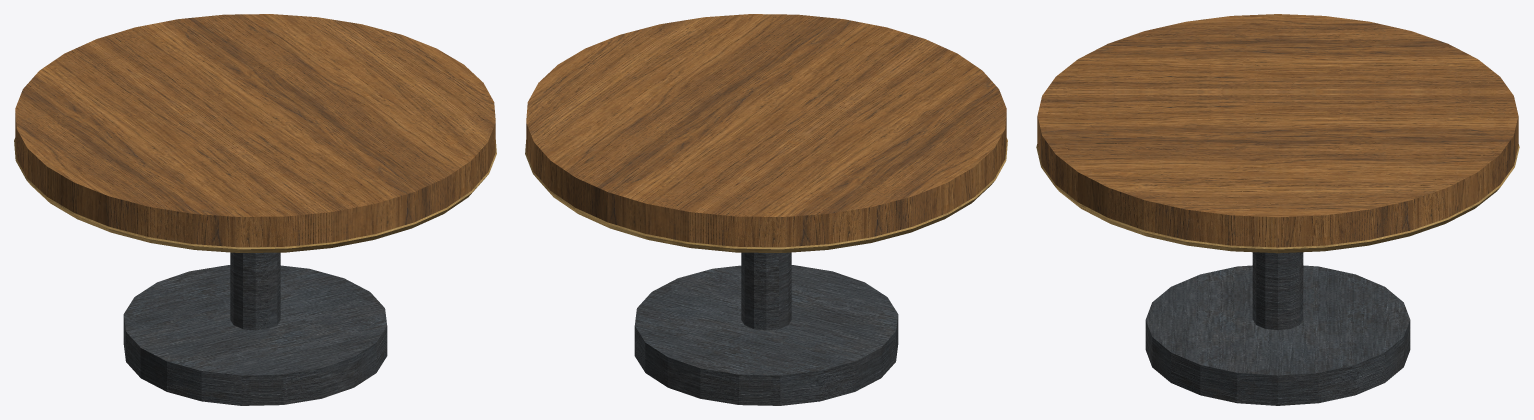
File: commons-low-table.glb
3 views of the same model, side by side, from view 1: azimuth 30°, elevation 25°; view 2: azimuth 150°, elevation 25°; view 3: azimuth 270°, elevation 25° (orthographic).
Parts seen in each view (by area): view 1: FURN_TableTop.015, FURN_TableBase.015, FURN_TableStem.015, FURN_TableTrim.015; view 2: FURN_TableTop.015, FURN_TableBase.015, FURN_TableStem.015, FURN_TableTrim.015; view 3: FURN_TableTop.015, FURN_TableBase.015, FURN_TableStem.015, FURN_TableTrim.015.
Part boxes in pixels (x1,y1,x2,y2): FURN_TableTop.015: (15,14,495,247); FURN_TableBase.015: (123,265,387,405); FURN_TableStem.015: (230,252,280,330); FURN_TableTrim.015: (14,138,496,252); FURN_TableTop.015: (526,14,1006,247); FURN_TableBase.015: (634,265,898,405); FURN_TableStem.015: (741,252,791,330); FURN_TableTrim.015: (525,138,1007,252); FURN_TableTop.015: (1037,14,1518,247); FURN_TableBase.015: (1145,265,1410,405); FURN_TableStem.015: (1252,252,1303,330); FURN_TableTrim.015: (1036,144,1519,253).
Size of the model in its own units: 0.864 by 0.4625 by 0.864.
3 materials, 3 textured.
